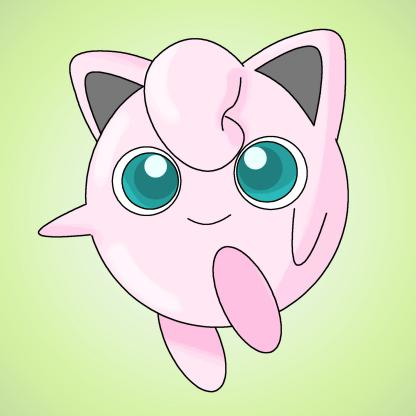Jigglypuff: (47, 26, 371, 398)
